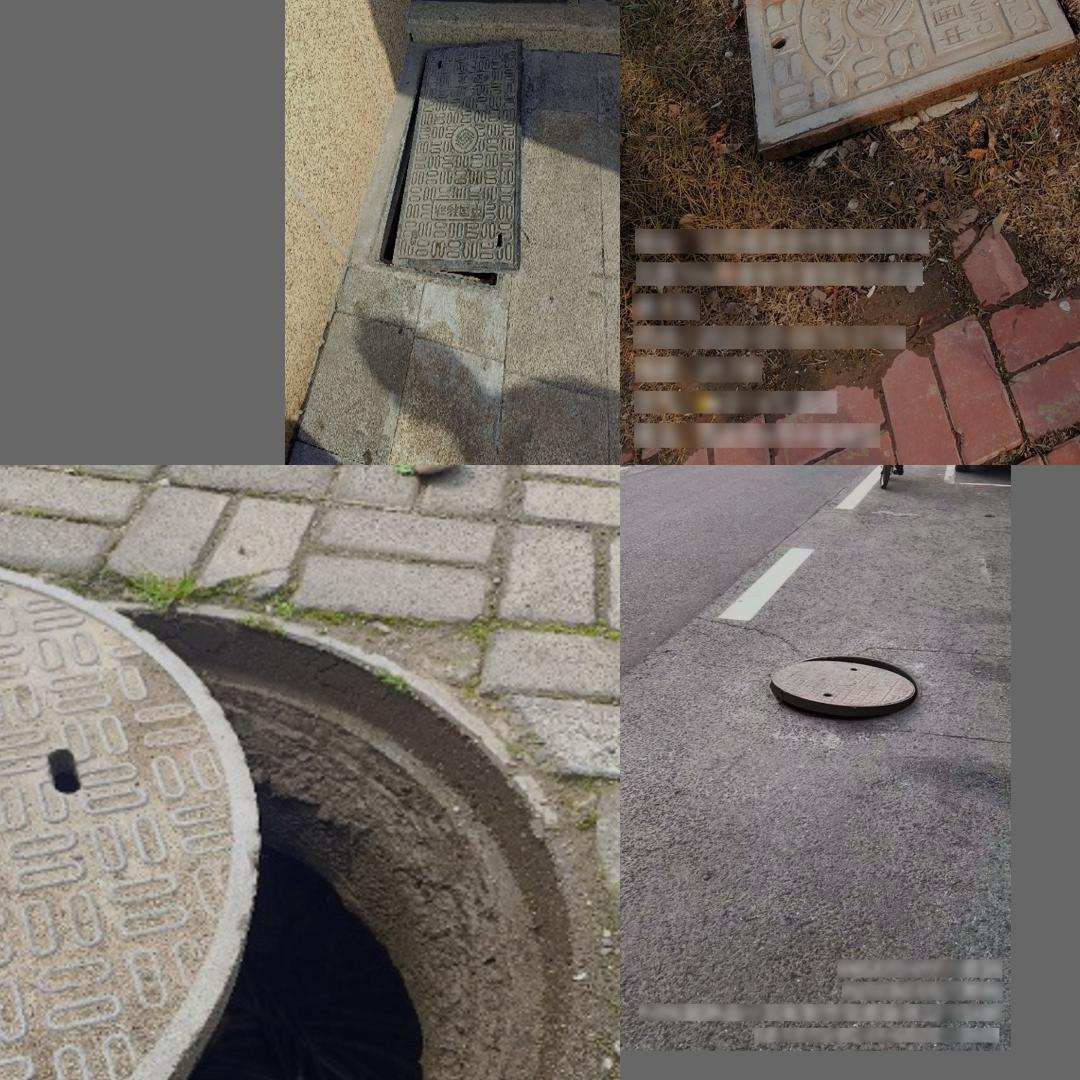uncovered: (0, 566, 575, 1080), (741, 0, 1075, 150), (368, 35, 520, 290), (766, 652, 922, 721)
